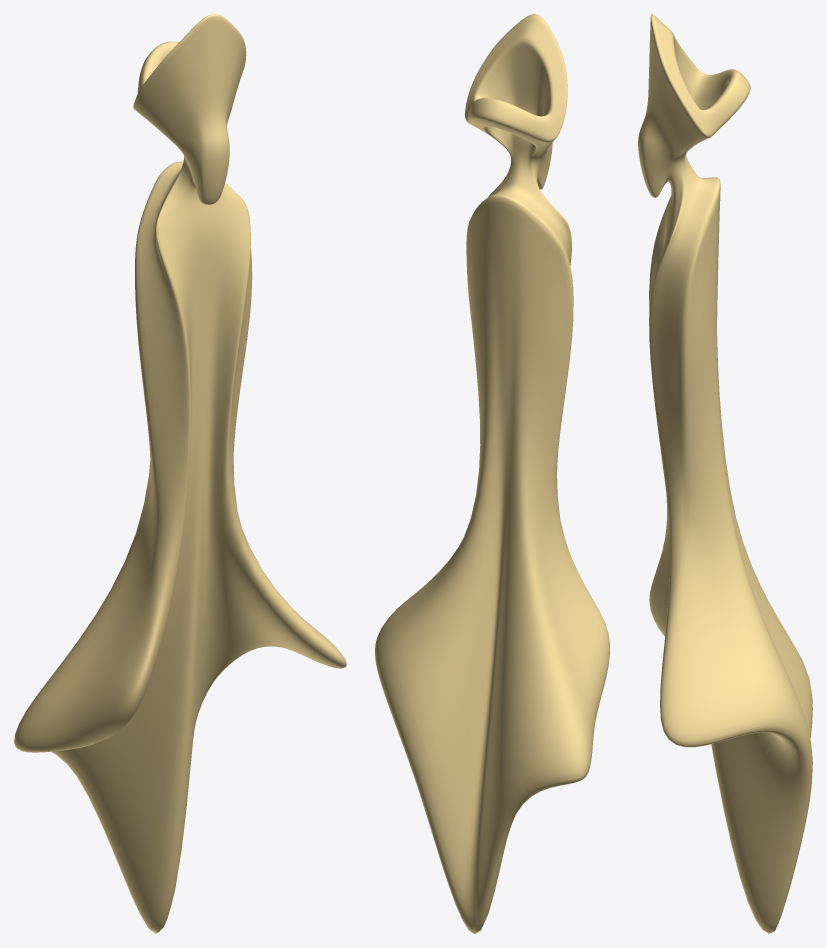
Rendered from emperor.glb.
The picture shows the model from 3 angles, left to right: view 1: azimuth 30°, elevation 25°; view 2: azimuth 150°, elevation 25°; view 3: azimuth 270°, elevation 25°; orthographic projection. The views are drawn at different scales.
Parts seen in each view (by area): view 1: emperor001; view 2: emperor001; view 3: emperor001.
Part boxes in pixels (x1,y1,x2,y2): emperor001: (14, 14, 346, 933); emperor001: (375, 14, 609, 933); emperor001: (638, 14, 812, 933).
Size of the model in its own units: 0.013 by 0.044 by 0.00761.
